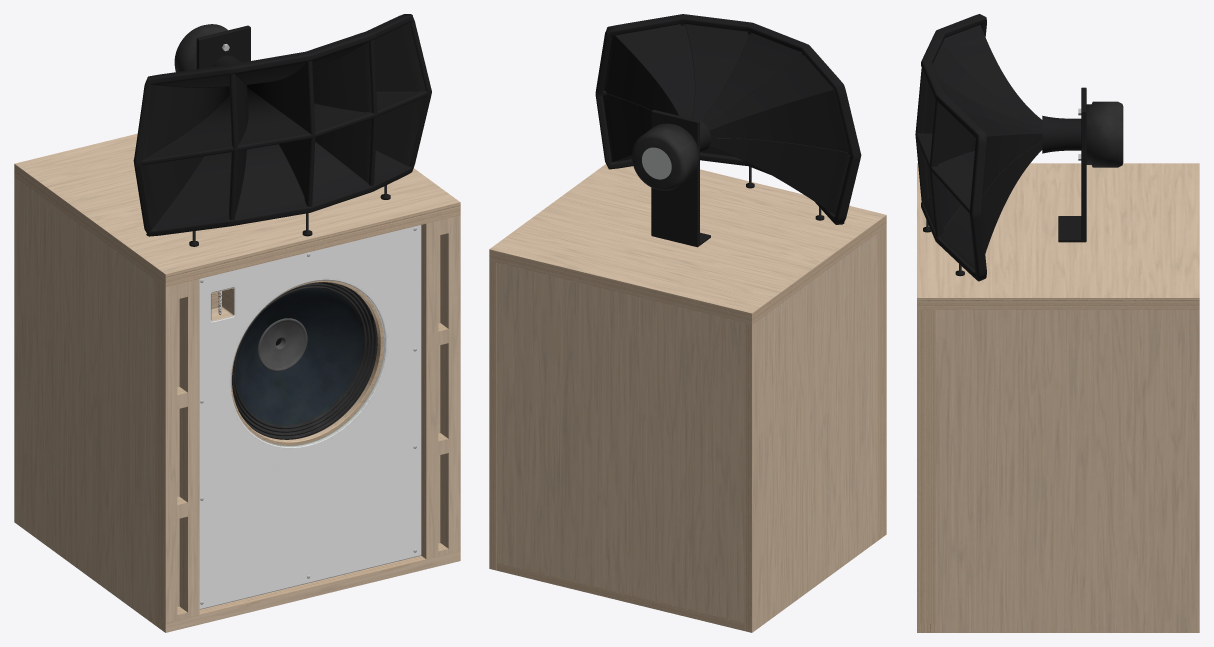
The model's file is hive.glb.
3 views of the same model, side by side, from view 1: azimuth 30°, elevation 25°; view 2: azimuth 150°, elevation 25°; view 3: azimuth 270°, elevation 25° (orthographic). The views are drawn at different scales.
Parts seen in each view (by area): view 1: Baffle, Side, Top, Stile, Stile.001, Cone, Horn rim, Horn cell.001, Horn cell, Horn cell.003, Horn cell.002, Surround (+13 smaller); view 2: Back, Side, Top, Horn cell.001, Horn cell.007, Horn rim, Horn cell, Horn bracket, Horn cell.005, Horn cell.003, Driver can, Stile (+4 smaller); view 3: Side.001, Top, Stile.001, Horn cell.007, Horn rim, Horn cell.006, Horn cell.001, Driver can, Horn cell.003, Horn cell.005, Horn neck, Horn bar.002 (+4 smaller).
Boxes of the visible parts, box(x1,y1,x2,y2) form: Baffle: box(199, 225, 421, 609); Side: box(14, 177, 155, 625); Top: box(14, 133, 460, 287); Stile: box(155, 279, 199, 622); Stile.001: box(421, 215, 460, 559); Cone: box(235, 288, 362, 425); Horn rim: box(133, 14, 431, 236); Horn cell.001: box(142, 75, 231, 159); Horn cell: box(142, 152, 231, 230); Horn cell.003: box(235, 62, 307, 144); Horn cell.002: box(235, 139, 307, 218); Surround: box(232, 282, 377, 439); Back: box(497, 263, 744, 622); Side: box(744, 233, 877, 632); Top: box(489, 164, 886, 324); Horn cell.001: box(706, 54, 848, 152); Horn cell.007: box(603, 24, 694, 118); Horn rim: box(595, 14, 861, 224); Horn cell: box(709, 138, 850, 215); Horn bracket: box(651, 109, 699, 247); Horn cell.005: box(685, 24, 749, 120); Horn cell.003: box(701, 33, 801, 125); Driver can: box(632, 123, 699, 190); Stile: box(878, 227, 886, 531); Side.001: box(935, 310, 1199, 632); Top: box(917, 163, 1199, 309); Stile.001: box(917, 310, 935, 623); Horn cell.007: box(938, 107, 1042, 201); Horn rim: box(921, 14, 986, 281); Horn cell.006: box(939, 142, 1042, 270); Horn cell.001: box(943, 25, 1042, 123); Driver can: box(1086, 101, 1123, 167); Horn cell.003: box(933, 43, 1042, 126); Horn cell.005: box(923, 78, 1042, 149); Horn neck: box(1042, 115, 1081, 153); Horn bar.002: box(929, 100, 943, 237).
Bounding box in the file's own units: 0.6249 × 1.09 × 0.553.
Materials: 33 (28 with a texture image).
